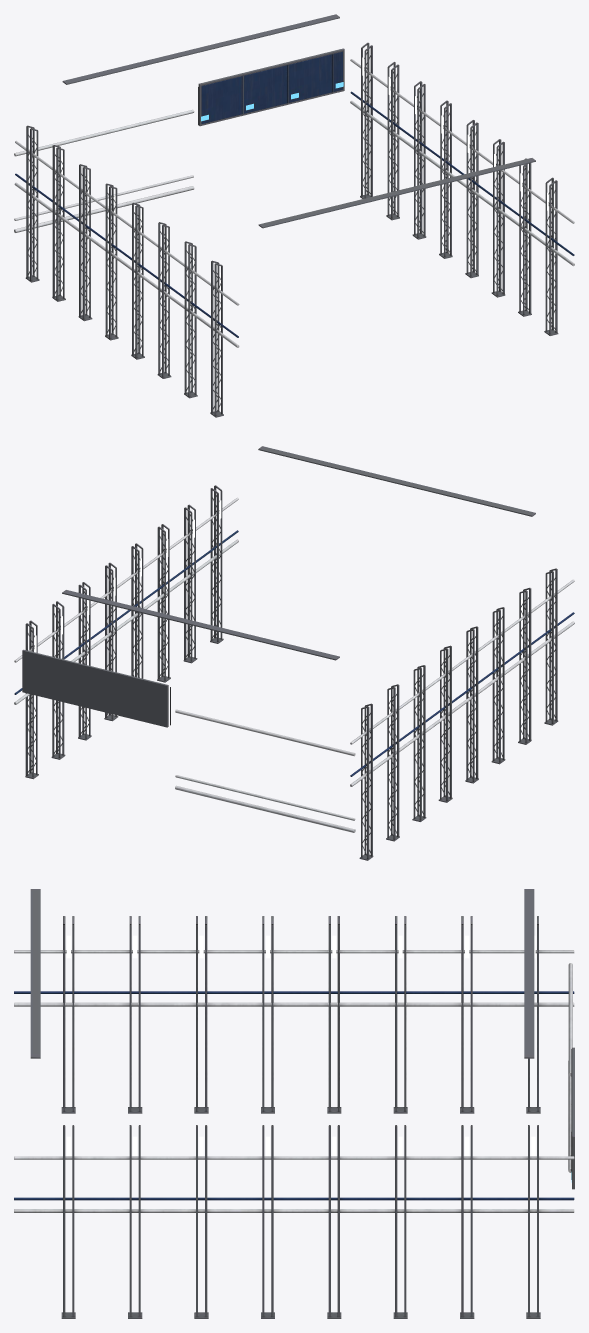
File: 整備庫_47_整修庫_內部.glb
3 views of the same model, one above another, from view 1: azimuth 30°, elevation 25°; view 2: azimuth 150°, elevation 25°; view 3: azimuth 270°, elevation 25° (orthographic). The views are drawn at different scales.
Parts seen in each view (by area): view 1: Hall_fit_refit_Mesh; view 2: Hall_fit_refit_Mesh; view 3: Hall_fit_refit_Mesh.
Boxes of the visible parts, bbox=[...] form: Hall_fit_refit_Mesh: bbox=[14, 14, 574, 417]; Hall_fit_refit_Mesh: bbox=[14, 446, 574, 860]; Hall_fit_refit_Mesh: bbox=[14, 889, 574, 1318].
Bounding box in the file's own units: 60 × 32 × 67.6.
3 materials, 1 textured.
